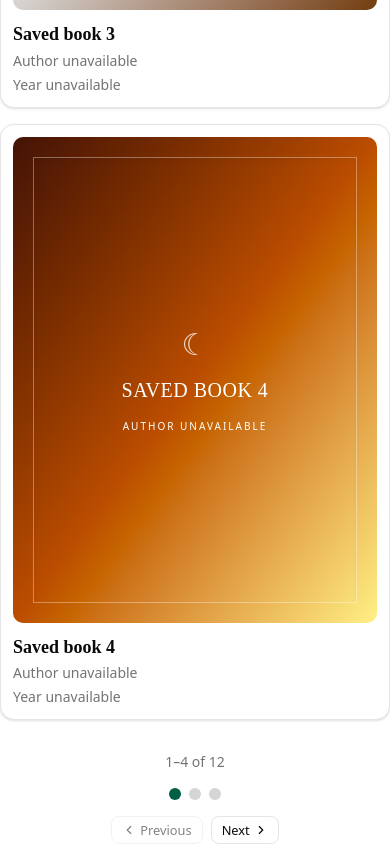
Recommendation results › supports moving backward with the mobile controls
(page scrolled)
Click the button "Next" at coordinates (245, 830), box [211,816,279,843]
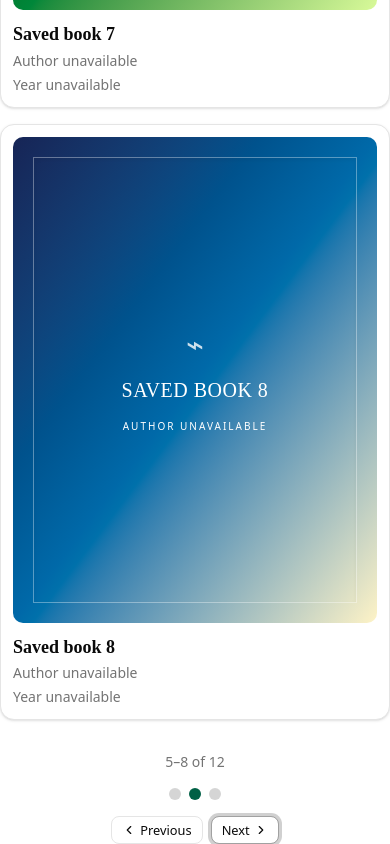
Expected: the text "5–8 of 12" is shown, [165,752,225,772]
Click the button "Previous" at coordinates (157, 830), box [111,816,203,843]
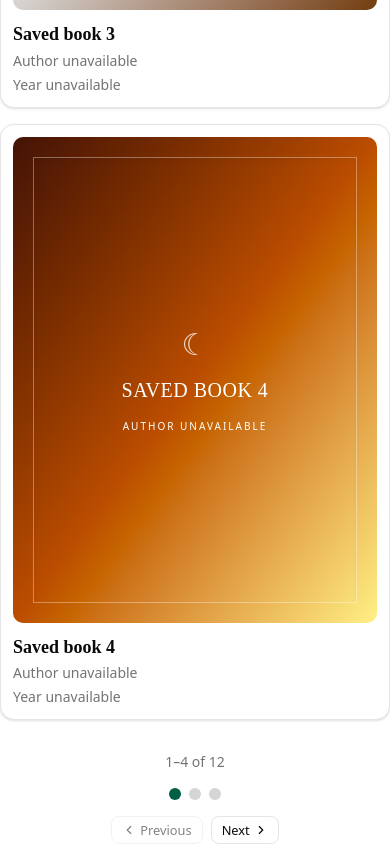
Expected: the text "1–4 of 12" is shown, [165,752,225,772]
Expected: the button "Previous" is disabled, [111,816,203,843]
